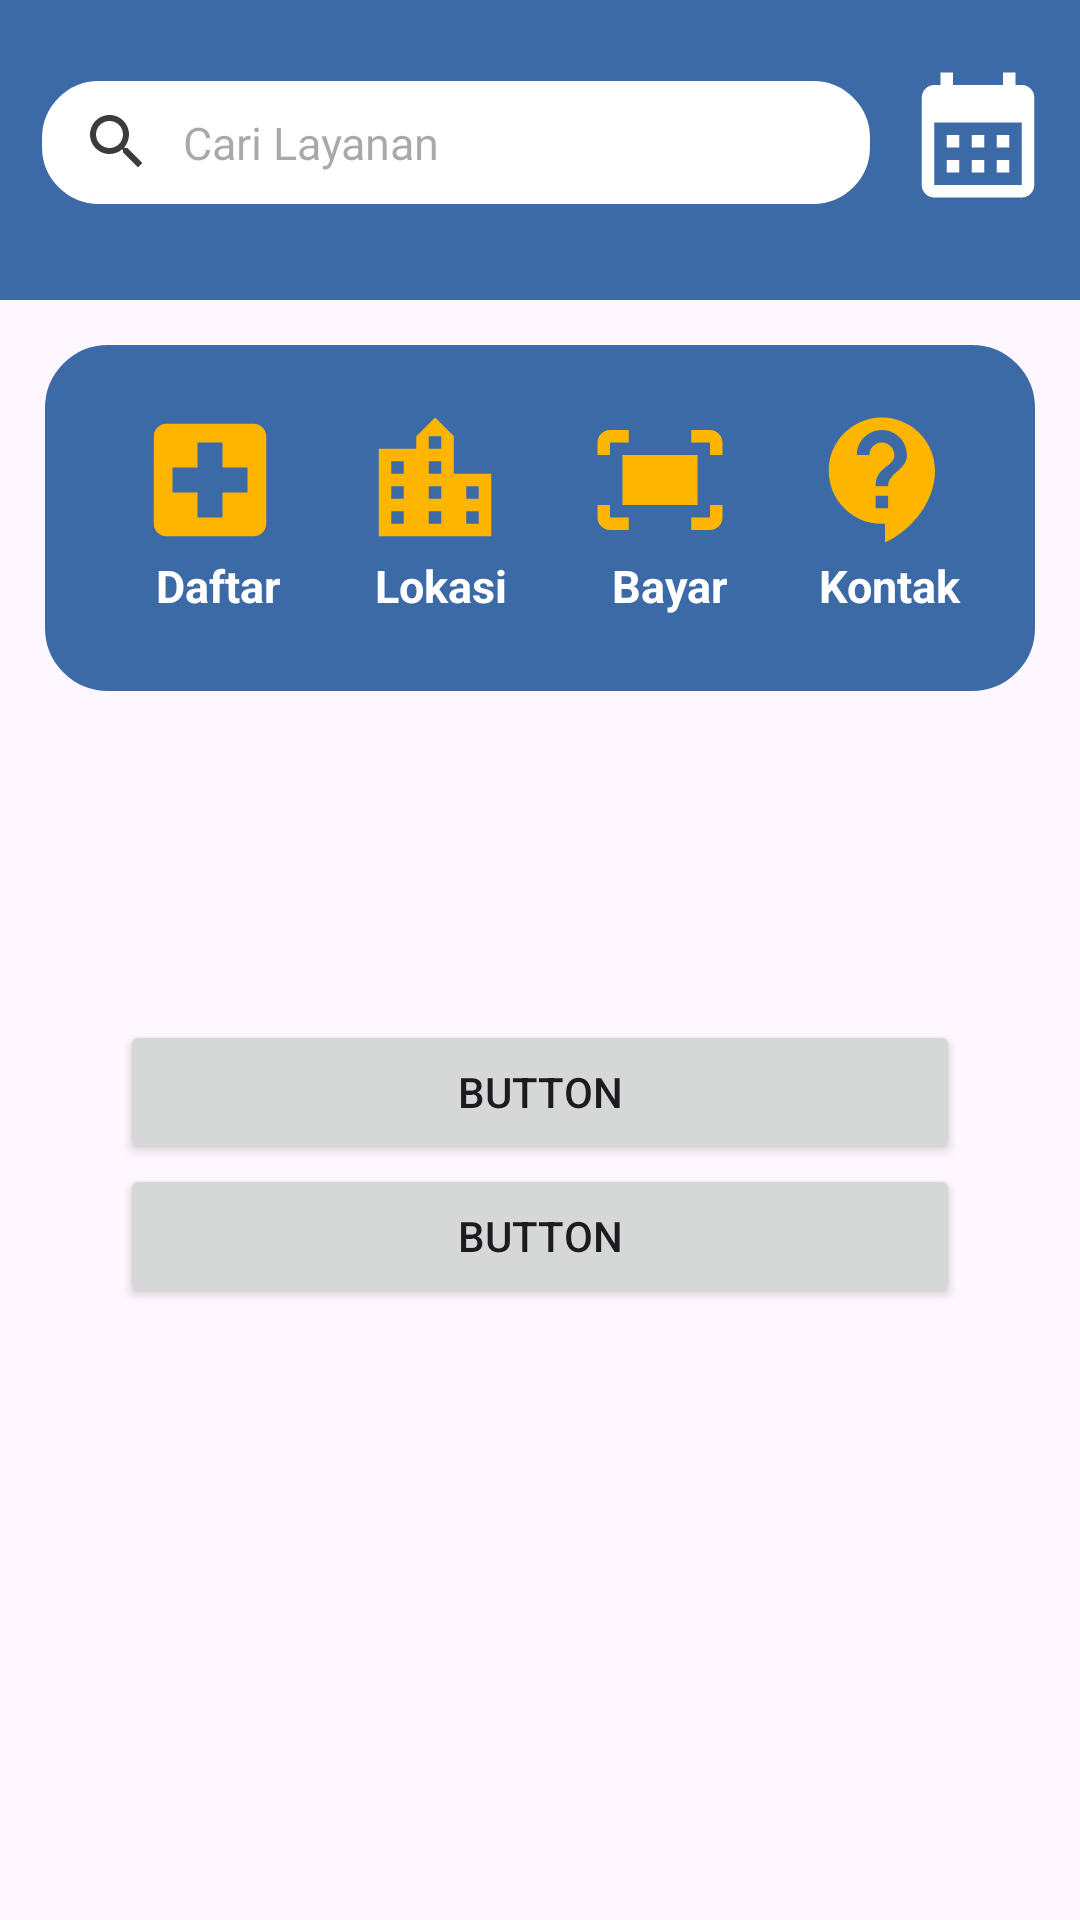

Named icons in this screenshot (1080px x 1920px) and their bounding boxes, [x1=x1, y1=y1, x2=x2, y2=y2]:
calendar month: [x1=921, y1=72, x2=1035, y2=198]
contact support: [x1=828, y1=417, x2=935, y2=543]
fit screen: [x1=597, y1=430, x2=723, y2=530]
local hospital: [x1=153, y1=423, x2=267, y2=537]
location city: [x1=378, y1=417, x2=492, y2=537]
